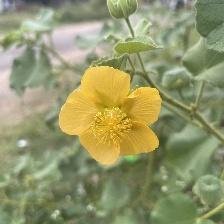indian mallow: (58, 66, 166, 167)
